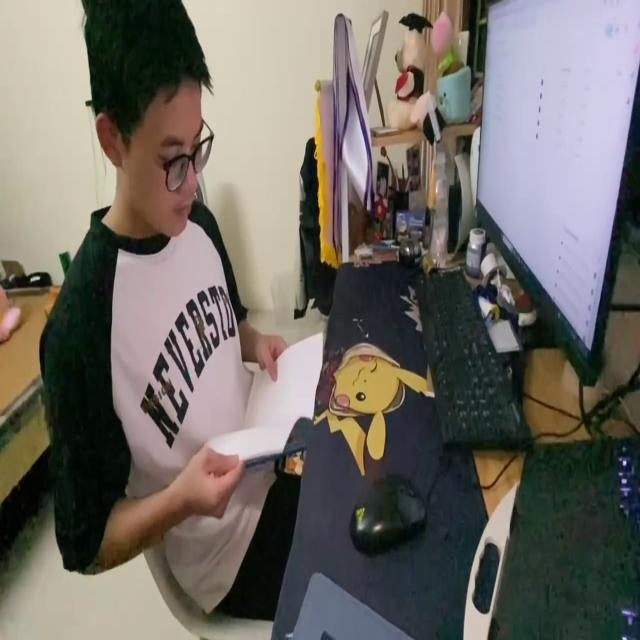book: (206, 328, 325, 475)
laptop: (476, 7, 640, 390)
student: (36, 0, 303, 622)
